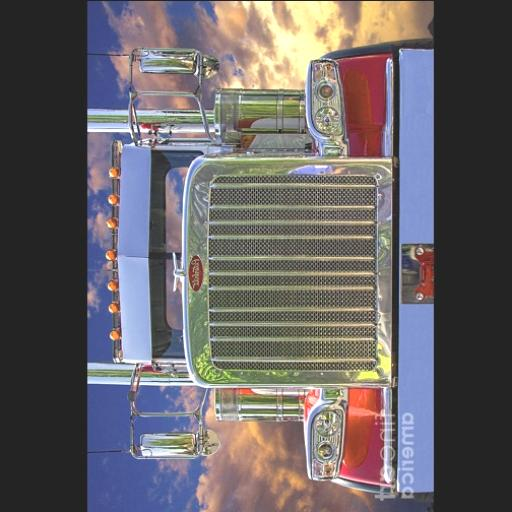truck: (88, 35, 438, 493)
